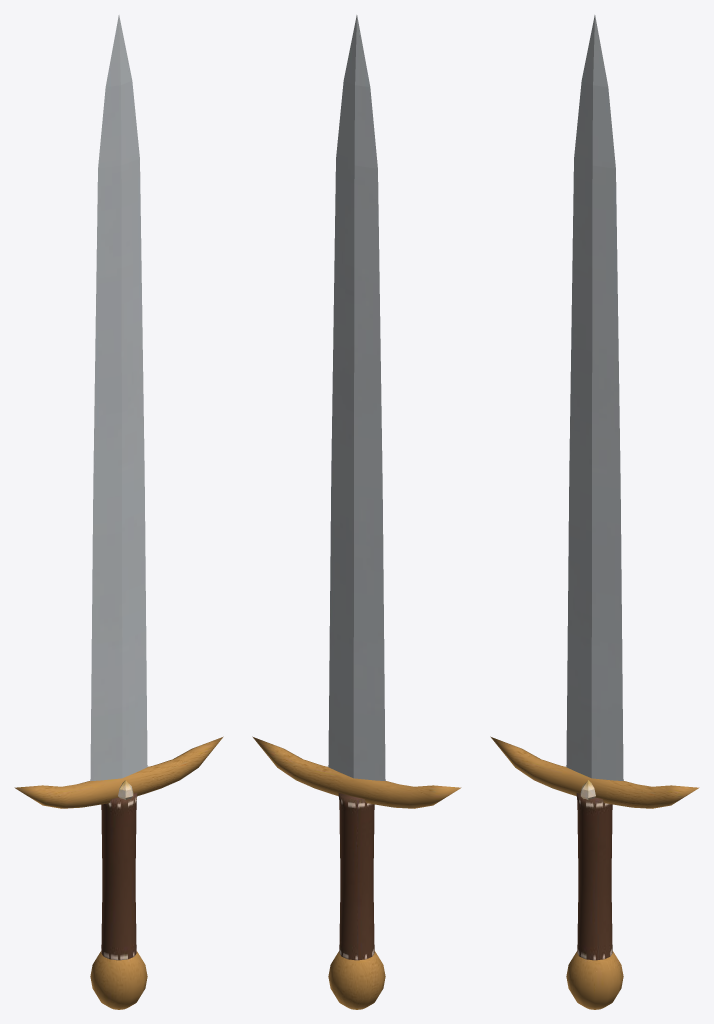
The model's file is schwert.glb.
The picture shows the model from 3 angles, left to right: view 1: azimuth 30°, elevation 25°; view 2: azimuth 150°, elevation 25°; view 3: azimuth 330°, elevation 25°; orthographic projection.
Visible parts, largest first — view 1: schwert; view 2: schwert; view 3: schwert.
Part boxes in pixels (bbox=[...]): schwert: bbox=[14, 15, 223, 1009]; schwert: bbox=[252, 15, 461, 1009]; schwert: bbox=[490, 15, 699, 1009].
Bounding box in the file's own units: 0.22 × 0.9962 × 0.052.
Materials: 4 (4 with a texture image).
